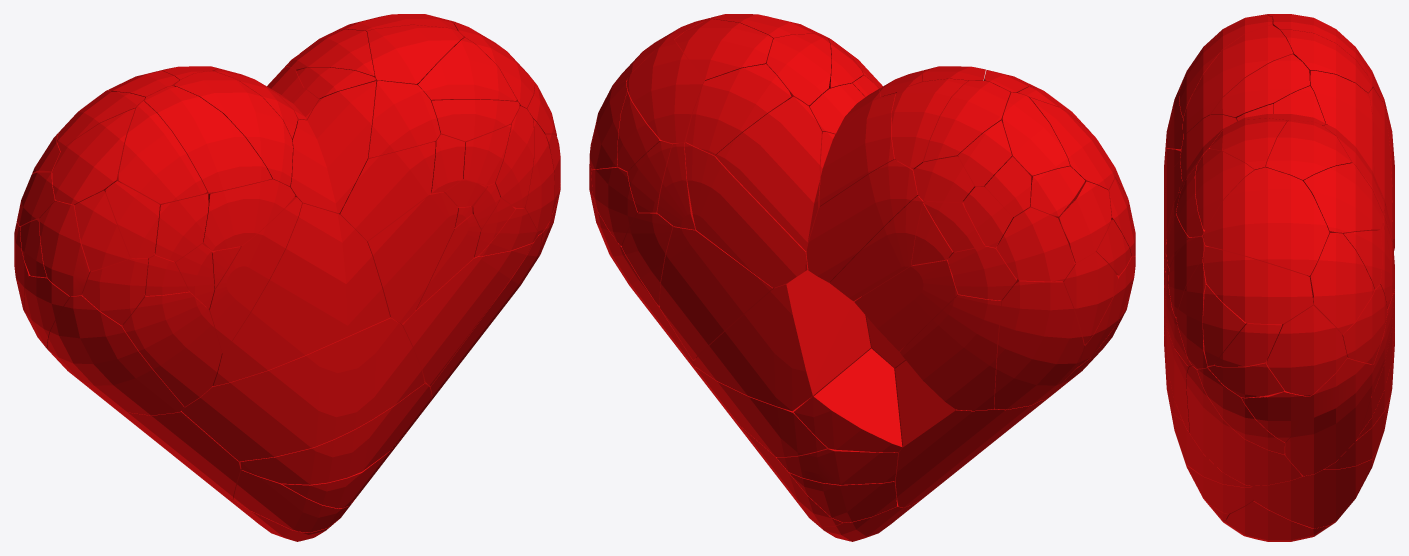
The picture shows the model from 3 angles, left to right: view 1: azimuth 30°, elevation 25°; view 2: azimuth 150°, elevation 25°; view 3: azimuth 270°, elevation 25°; orthographic projection. The views are drawn at different scales.
Parts seen in each view (by area): view 1: uploads_files_4906046_heart_cell.084, uploads_files_4906046_heart_cell.063, uploads_files_4906046_heart_cell.058, uploads_files_4906046_heart_cell.018, uploads_files_4906046_heart_cell.086, uploads_files_4906046_heart_cell.080, uploads_files_4906046_heart_cell.031, uploads_files_4906046_heart_cell.090, uploads_files_4906046_heart_cell.041, uploads_files_4906046_heart_cell.013, uploads_files_4906046_heart_cell.068, uploads_files_4906046_heart_cell.069 (+41 smaller); view 2: uploads_files_4906046_heart_cell.011, uploads_files_4906046_heart_cell.015, uploads_files_4906046_heart_cell.053, uploads_files_4906046_heart_cell.017, uploads_files_4906046_heart_cell.046, uploads_files_4906046_heart_cell.073, uploads_files_4906046_heart_cell.064, uploads_files_4906046_heart_cell.022, uploads_files_4906046_heart_cell.039, uploads_files_4906046_heart_cell.020, uploads_files_4906046_heart_cell.008, uploads_files_4906046_heart_cell.019 (+40 smaller); view 3: uploads_files_4906046_heart_cell.025, uploads_files_4906046_heart_cell.037, uploads_files_4906046_heart_cell.047, uploads_files_4906046_heart_cell.094, uploads_files_4906046_heart_cell.067, uploads_files_4906046_heart_cell.061, uploads_files_4906046_heart_cell.089, uploads_files_4906046_heart_cell.054, uploads_files_4906046_heart_cell.019, uploads_files_4906046_heart_cell.071, uploads_files_4906046_heart_cell.009, uploads_files_4906046_heart_cell.033 (+38 smaller).
Part boxes in pixels (bbox=[...]): uploads_files_4906046_heart_cell.084: bbox=[182, 317, 424, 461]; uploads_files_4906046_heart_cell.063: bbox=[212, 203, 390, 386]; uploads_files_4906046_heart_cell.058: bbox=[47, 294, 184, 415]; uploads_files_4906046_heart_cell.018: bbox=[289, 81, 376, 213]; uploads_files_4906046_heart_cell.086: bbox=[122, 290, 221, 406]; uploads_files_4906046_heart_cell.080: bbox=[397, 243, 532, 386]; uploads_files_4906046_heart_cell.031: bbox=[367, 192, 458, 323]; uploads_files_4906046_heart_cell.090: bbox=[240, 383, 431, 484]; uploads_files_4906046_heart_cell.041: bbox=[144, 86, 271, 192]; uploads_files_4906046_heart_cell.013: bbox=[339, 141, 435, 241]; uploads_files_4906046_heart_cell.068: bbox=[118, 101, 207, 203]; uploads_files_4906046_heart_cell.069: bbox=[206, 197, 301, 352]; uploads_files_4906046_heart_cell.011: bbox=[693, 269, 870, 411]; uploads_files_4906046_heart_cell.015: bbox=[715, 96, 822, 251]; uploads_files_4906046_heart_cell.053: bbox=[894, 360, 1051, 507]; uploads_files_4906046_heart_cell.017: bbox=[994, 279, 1083, 409]; uploads_files_4906046_heart_cell.046: bbox=[659, 226, 773, 360]; uploads_files_4906046_heart_cell.073: bbox=[684, 142, 808, 287]; uploads_files_4906046_heart_cell.064: bbox=[900, 294, 1001, 410]; uploads_files_4906046_heart_cell.022: bbox=[793, 348, 902, 452]; uploads_files_4906046_heart_cell.039: bbox=[806, 159, 918, 282]; uploads_files_4906046_heart_cell.020: bbox=[685, 64, 791, 155]; uploads_files_4906046_heart_cell.008: bbox=[854, 258, 957, 351]; uploads_files_4906046_heart_cell.019: bbox=[626, 40, 704, 143]; uploads_files_4906046_heart_cell.025: bbox=[1203, 167, 1329, 275]; uploads_files_4906046_heart_cell.037: bbox=[1285, 357, 1373, 475]; uploads_files_4906046_heart_cell.047: bbox=[1203, 246, 1313, 323]; uploads_files_4906046_heart_cell.094: bbox=[1186, 366, 1302, 485]; uploads_files_4906046_heart_cell.067: bbox=[1266, 305, 1346, 396]; uploads_files_4906046_heart_cell.061: bbox=[1251, 459, 1372, 528]; uploads_files_4906046_heart_cell.089: bbox=[1183, 25, 1293, 138]; uploads_files_4906046_heart_cell.054: bbox=[1307, 233, 1374, 334]; uploads_files_4906046_heart_cell.019: bbox=[1303, 163, 1383, 233]; uploads_files_4906046_heart_cell.071: bbox=[1309, 70, 1373, 174]; uploads_files_4906046_heart_cell.009: bbox=[1265, 120, 1351, 180]; uploads_files_4906046_heart_cell.033: bbox=[1211, 54, 1309, 118].
Size of the model in its own units: 1.62 by 1.44 by 0.657.
